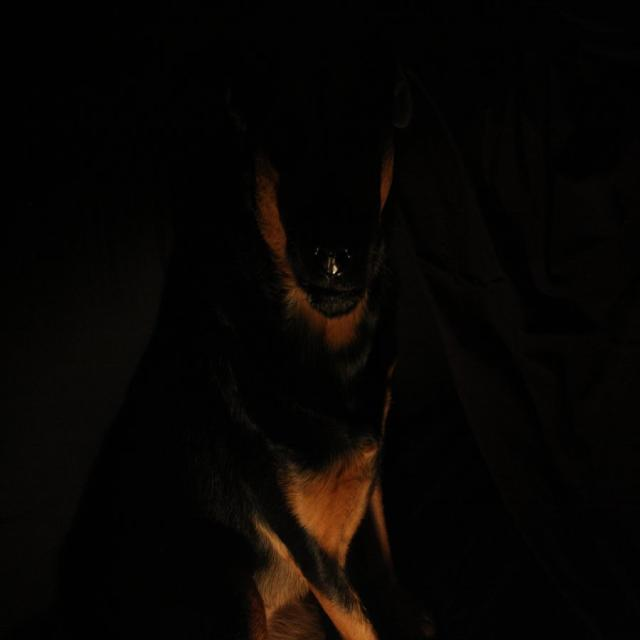Dog: (187, 83, 459, 622)
